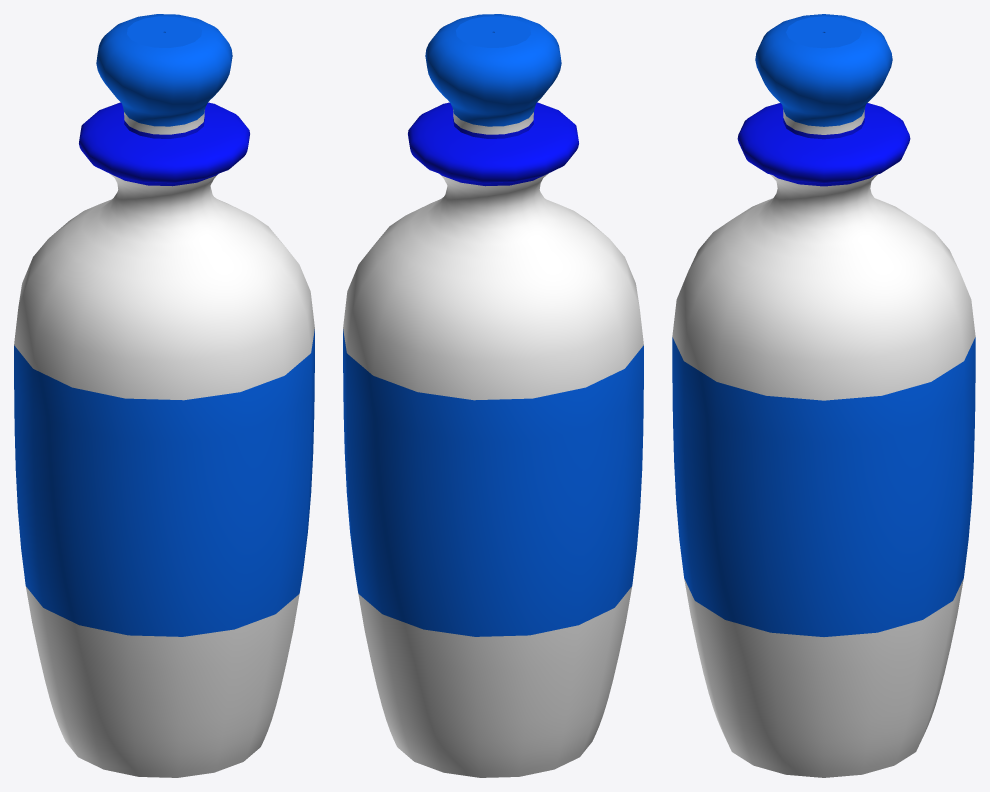
Rendered from Bottle1.FBX.
The picture shows the model from 3 angles, left to right: view 1: azimuth 30°, elevation 25°; view 2: azimuth 150°, elevation 25°; view 3: azimuth 270°, elevation 25°; orthographic projection.
Visible parts, largest first — view 1: Bottle Blue; view 2: Bottle Blue; view 3: Bottle Blue.
Part boxes in pixels (x1=…): Bottle Blue: x1=14, y1=14, x2=314, y2=777; Bottle Blue: x1=343, y1=14, x2=643, y2=777; Bottle Blue: x1=672, y1=14, x2=975, y2=777.
Bounding box in the file's own units: 3.3 × 8.45 × 3.3.
